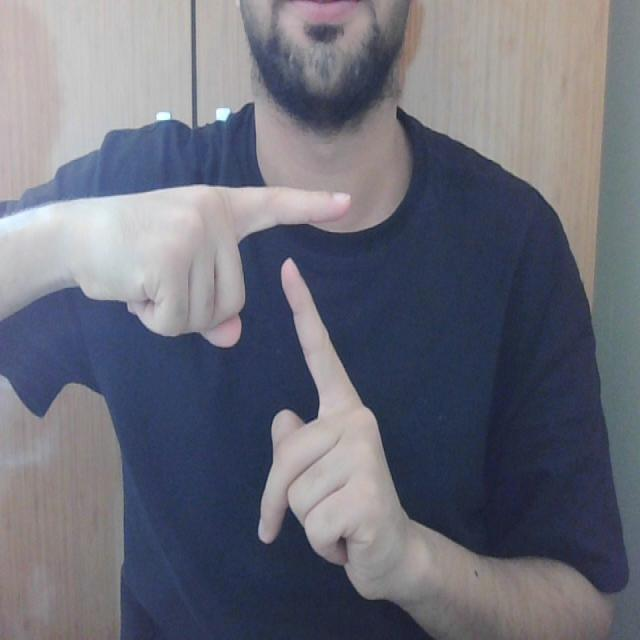Tesekkurler: (219, 170, 381, 466)
